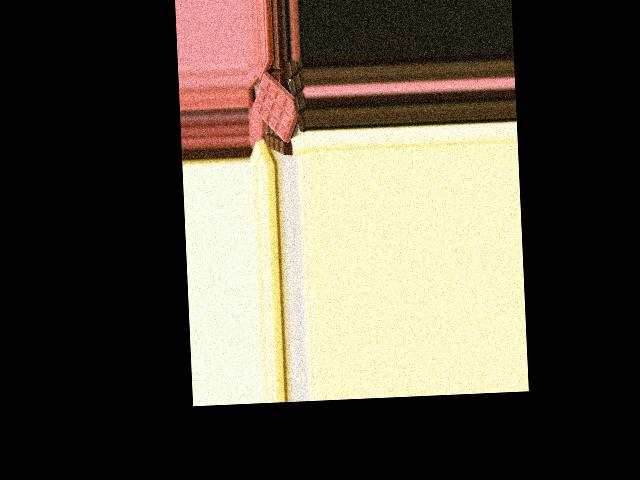chocolate: (249, 70, 307, 142)
